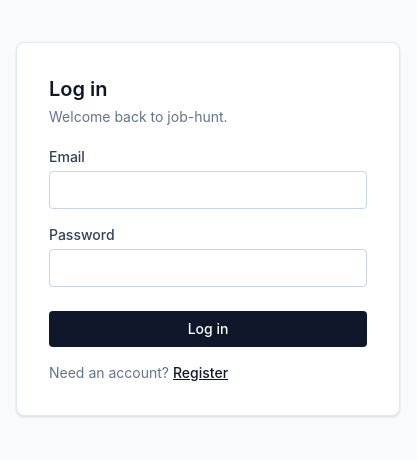
Test case: LoginPage › surfaces an invalid-credentials error from the API
This screenshot has width=417, height=460.
Type "ada@example.com" into the field labelled "Email" at (208, 190), box x1=49 y1=171 x2=367 y2=209
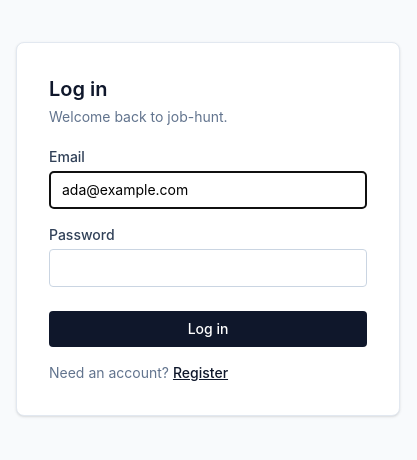
Type "wrongpassword" into the password field labelled "Password" at (208, 268), box x1=49 y1=249 x2=367 y2=287
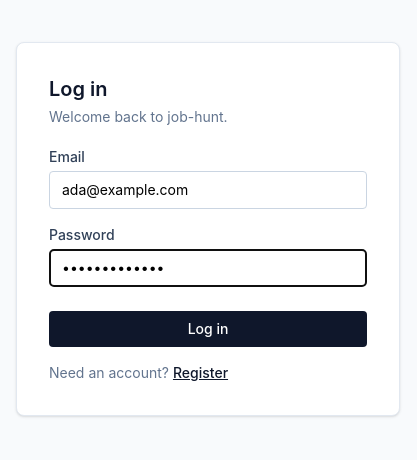
Click the button "Log in" at (208, 329), box x1=49 y1=311 x2=367 y2=347
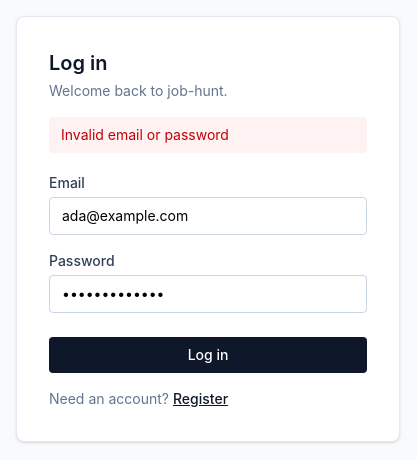
Result: the message reads "Invalid email or password" at x1=61 y1=126 x2=229 y2=143
